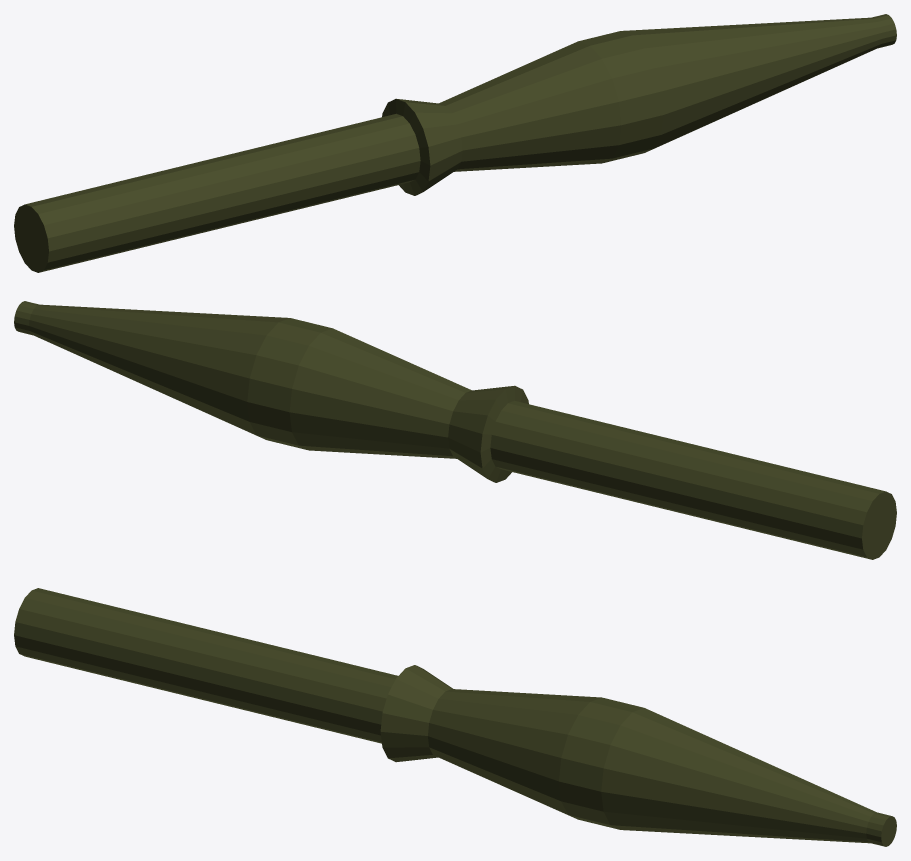
The model's file is ROCKETA.fbx.
3 views of the same model, one above another, from view 1: azimuth 30°, elevation 25°; view 2: azimuth 150°, elevation 25°; view 3: azimuth 330°, elevation 25° (orthographic).
Parts seen in each view (by area): view 1: Cylinder; view 2: Cylinder; view 3: Cylinder.
Part boxes in pixels (x1=…): Cylinder: x1=14, y1=14, x2=896, y2=272; Cylinder: x1=14, y1=301, x2=896, y2=559; Cylinder: x1=14, y1=588, x2=896, y2=846.
Bounding box in the file's own units: 353 × 44.53 × 44.53.
